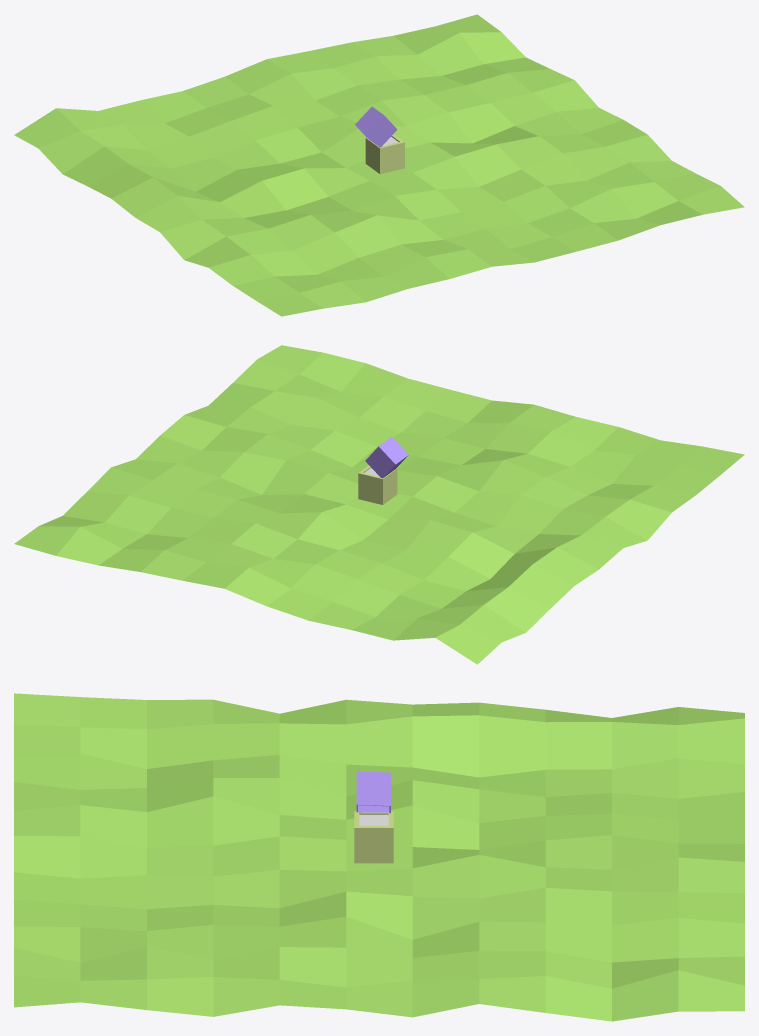
The model's file is ground13(1).fbx.
3 views of the same model, one above another, from view 1: azimuth 30°, elevation 25°; view 2: azimuth 150°, elevation 25°; view 3: azimuth 270°, elevation 25° (orthographic). The views are drawn at different scales.
Parts seen in each view (by area): view 1: Plane, Cube.002, Cube.001; view 2: Plane, Cube.002, Cube.001; view 3: Plane, Cube.002, Cube.001.
Boxes of the visible parts, left/top/right/bottom form: Plane: left=14, top=14, right=744, bottom=316; Cube.002: left=365, top=134, right=404, bottom=174; Cube.001: left=355, top=106, right=397, bottom=147; Plane: left=14, top=345, right=744, bottom=664; Cube.002: left=358, top=465, right=397, bottom=504; Cube.001: left=365, top=436, right=408, bottom=478; Plane: left=14, top=693, right=744, bottom=1021; Cube.002: left=354, top=811, right=393, bottom=863; Cube.001: left=356, top=771, right=390, bottom=813.
Size of the model in its own units: 5202 by 801 by 5202.
